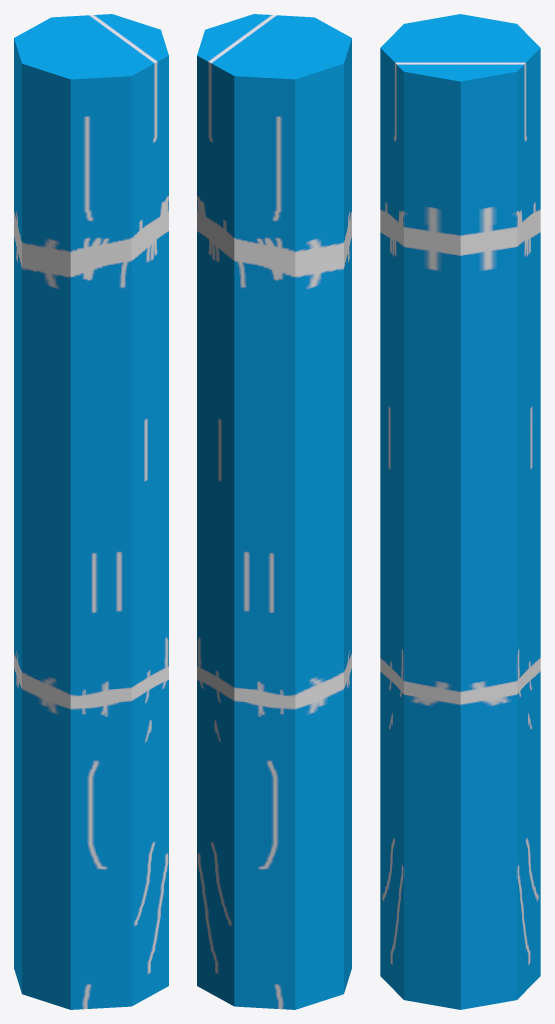
The model's file is StraightWater.fbx.
3 renders of one model, left to right at view 1: azimuth 30°, elevation 25°; view 2: azimuth 150°, elevation 25°; view 3: azimuth 270°, elevation 25°, orthographic.
Visible parts, largest first — view 1: pCylinder3; view 2: pCylinder3; view 3: pCylinder3.
Boxes of the visible parts, left/top/right/bottom form: pCylinder3: left=14, top=14, right=168, bottom=1009; pCylinder3: left=197, top=14, right=351, bottom=1009; pCylinder3: left=380, top=14, right=540, bottom=1009.
Bounding box in the file's own units: 0.6412 × 4.1 × 0.6412.
